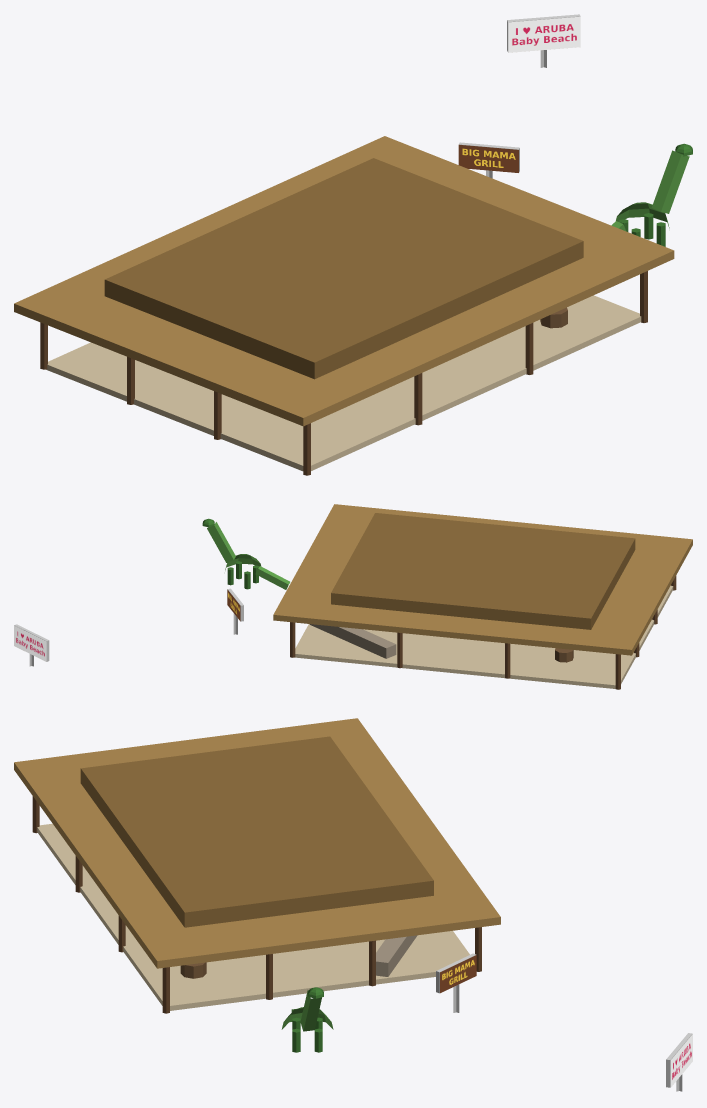
Rendered from bigmama.glb.
3 views of the same model, one above another, from view 1: azimuth 30°, elevation 25°; view 2: azimuth 150°, elevation 25°; view 3: azimuth 270°, elevation 25° (orthographic). The views are drawn at different scales.
Visible parts, largest first — view 1: bigmama_lod0; view 2: bigmama_lod0; view 3: bigmama_lod0.
Boxes of the visible parts, bbox=[...] form: bigmama_lod0: bbox=[14, 14, 692, 475]; bigmama_lod0: bbox=[14, 504, 692, 689]; bigmama_lod0: bbox=[14, 718, 692, 1091].
Size of what is drawn, in the model's own units: 41.56 by 4.65 by 36.53.
12 materials, 1 textured.
